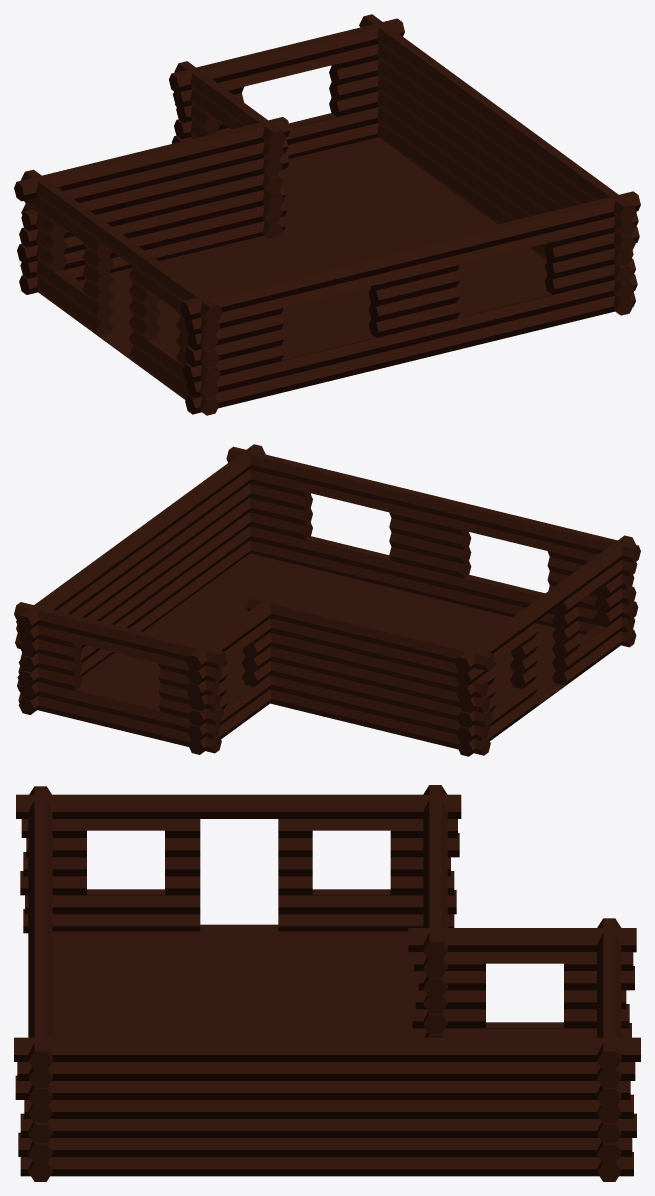
The model's file is LogHouse_01.FBX.
3 views of the same model, one above another, from view 1: azimuth 30°, elevation 25°; view 2: azimuth 150°, elevation 25°; view 3: azimuth 270°, elevation 25° (orthographic). The views are drawn at different scales.
Parts seen in each view (by area): view 1: Plane001, Cylinder013, Cylinder011, Cylinder008, Cylinder014, Cylinder009, Cylinder010, Cylinder012; view 2: Cylinder013, Plane001, Cylinder008, Cylinder014, Cylinder011, Cylinder009, Cylinder010, Cylinder012; view 3: Cylinder013, Plane001, Cylinder008, Cylinder011, Cylinder009, Cylinder014, Cylinder010, Cylinder012.
Boxes of the visible parts, box(x1,y1,x2,y2) form: Plane001: box(79, 137, 546, 354); Cylinder013: box(14, 14, 640, 322); Cylinder011: box(24, 44, 638, 336); Cylinder008: box(20, 107, 637, 399); Cylinder014: box(19, 123, 635, 415); Cylinder009: box(17, 91, 635, 384); Cylinder010: box(21, 59, 639, 351); Cylinder012: box(19, 75, 633, 367); Cylinder013: box(14, 444, 640, 673); Plane001: box(80, 553, 584, 705); Cylinder008: box(17, 526, 635, 742); Cylinder014: box(18, 540, 636, 756); Cylinder011: box(16, 469, 637, 686); Cylinder009: box(17, 512, 638, 727); Cylinder010: box(15, 483, 634, 701); Cylinder012: box(18, 498, 636, 712); Cylinder013: box(14, 785, 640, 1070); Plane001: box(52, 931, 418, 1037); Cylinder008: box(18, 890, 632, 1163); Cylinder011: box(17, 819, 635, 1087); Cylinder009: box(20, 871, 636, 1143); Cylinder014: box(20, 909, 633, 1181); Cylinder010: box(15, 833, 634, 1107); Cylinder012: box(23, 852, 633, 1123).
Bounding box in the file's own units: 258 × 60.3 × 257.
